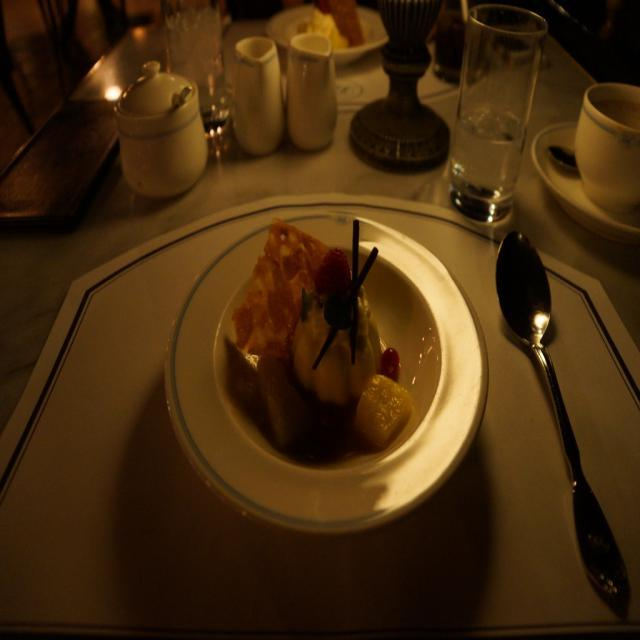ceramic plate: (156, 208, 499, 536)
